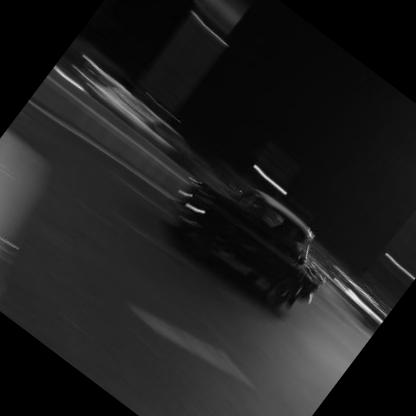car: (128, 134, 378, 363)
